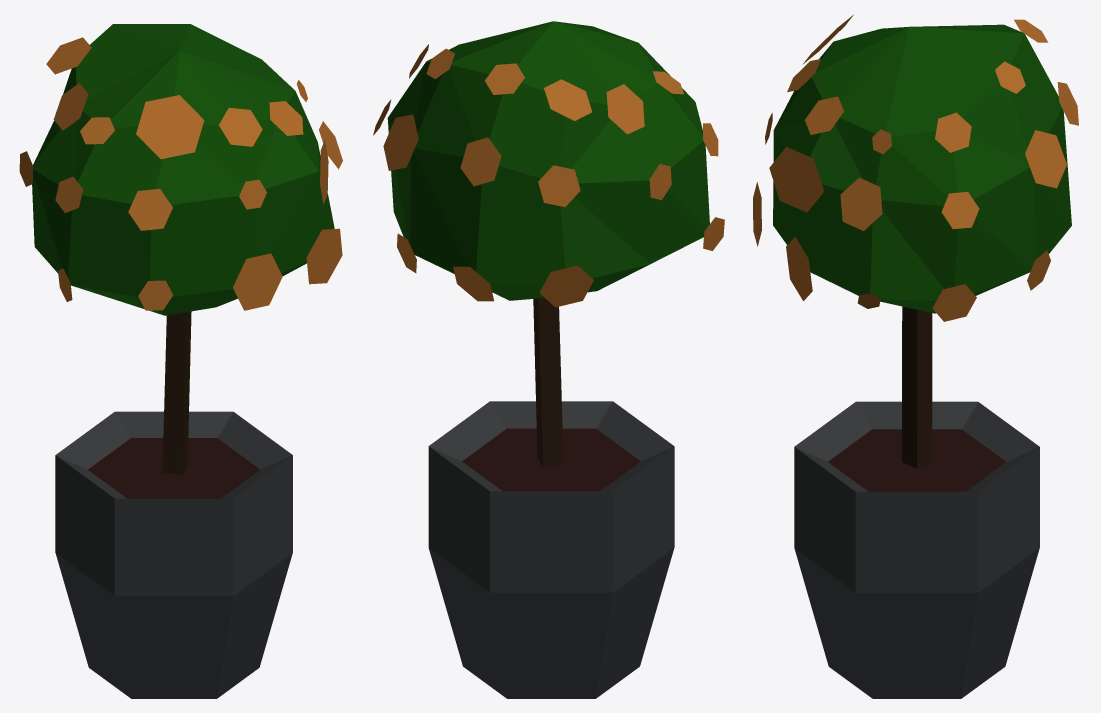
Rendered from flower-pot-a.glb.
The picture shows the model from 3 angles, left to right: view 1: azimuth 30°, elevation 25°; view 2: azimuth 150°, elevation 25°; view 3: azimuth 270°, elevation 25°; orthographic projection. The views are drawn at different scales.
Visible parts, largest first — view 1: FlowerPot7; view 2: FlowerPot7; view 3: FlowerPot7.
Boxes of the visible parts, bbox=[...] form: FlowerPot7: bbox=[19, 24, 342, 698]; FlowerPot7: bbox=[373, 21, 724, 698]; FlowerPot7: bbox=[753, 14, 1078, 698].
Bounding box in the file's own units: 0.8847 × 1.81 × 0.8544.
Materials: 1 (1 with a texture image).
